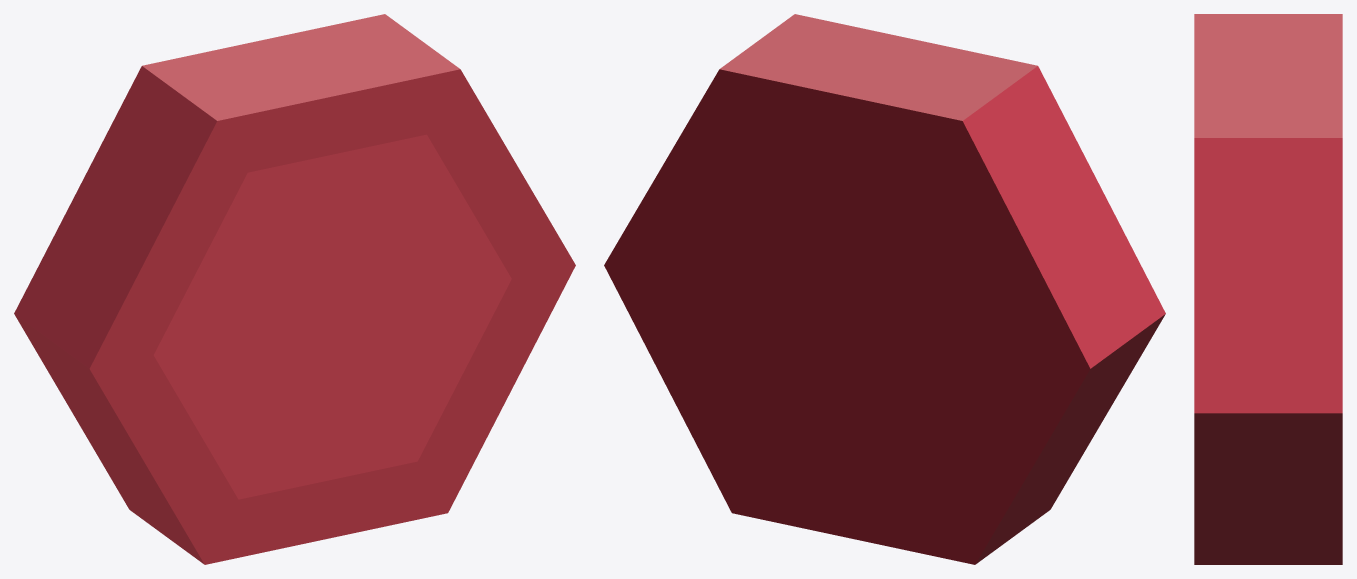
Rendered from light_frame.glb.
The picture shows the model from 3 angles, left to right: view 1: azimuth 30°, elevation 25°; view 2: azimuth 150°, elevation 25°; view 3: azimuth 270°, elevation 25°; orthographic projection.
Visible parts, largest first — view 1: light_frame; view 2: light_frame; view 3: light_frame.
Part boxes in pixels (x1=…): light_frame: x1=14, y1=14, x2=575, y2=564; light_frame: x1=604, y1=14, x2=1165, y2=564; light_frame: x1=1194, y1=14, x2=1342, y2=564.
Size of the model in its own units: 0.1287 by 0.1134 by 0.0346.
